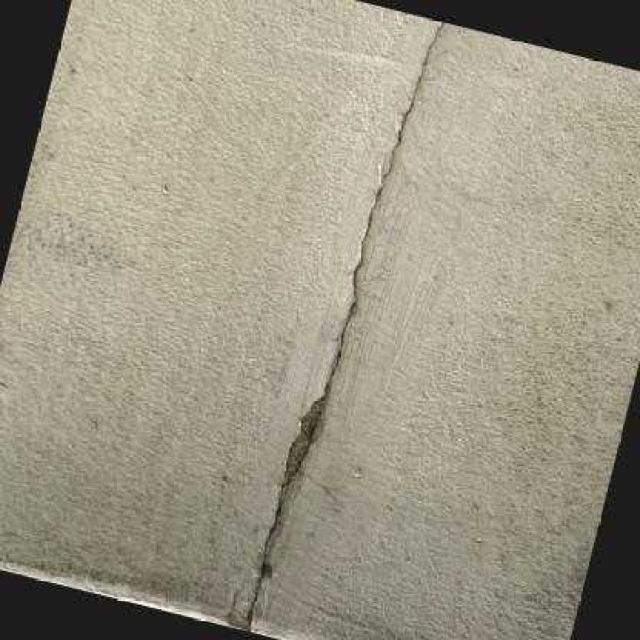D00: (247, 23, 442, 632)
